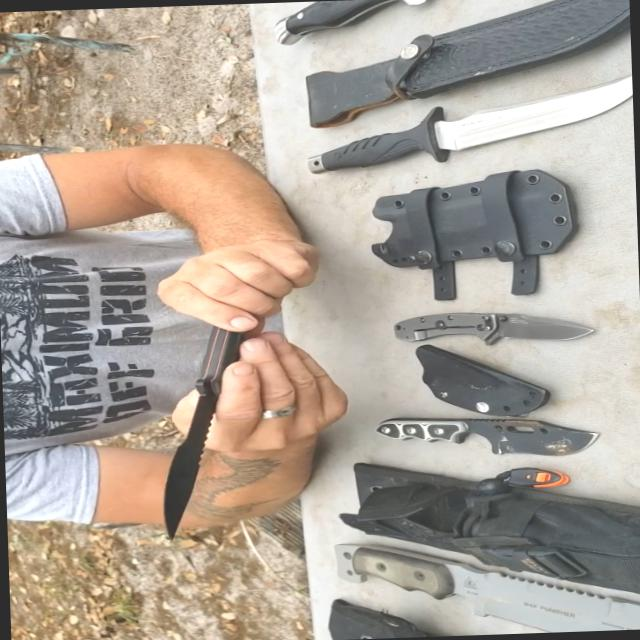knife: (287, 60, 634, 178), (148, 280, 276, 548), (337, 526, 639, 639), (350, 394, 598, 474), (389, 286, 588, 362)
